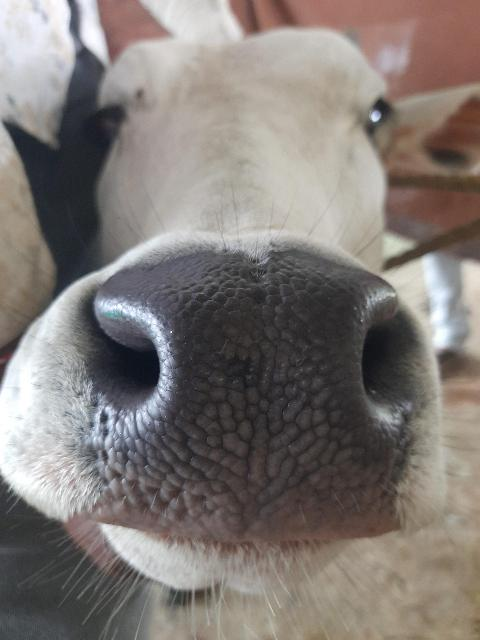Muzzle: (126, 268, 368, 536)
